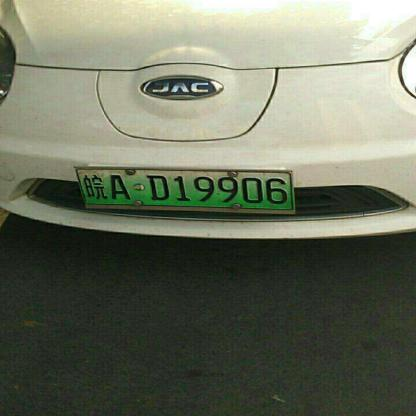lp: (78, 169, 291, 208)
